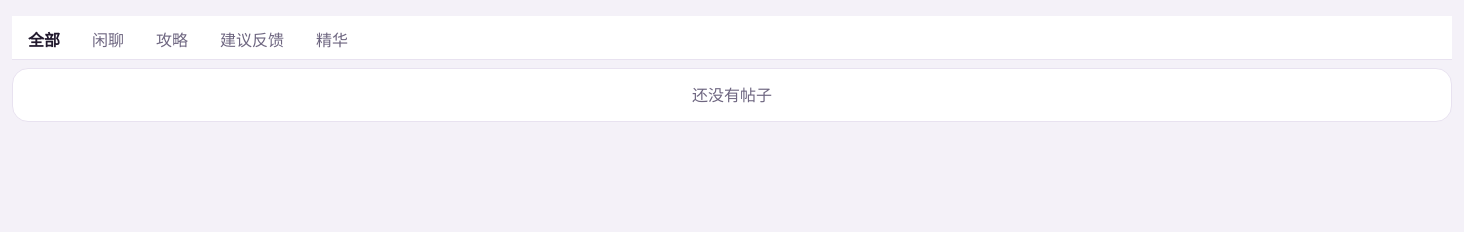
Test: ForumView › 加载中切换标签：以最后一次为准，不会停在旧列表（终审）
Click the tab with test id "forum-tab-guide": (172,40) x1=140 y1=20 x2=204 y2=60
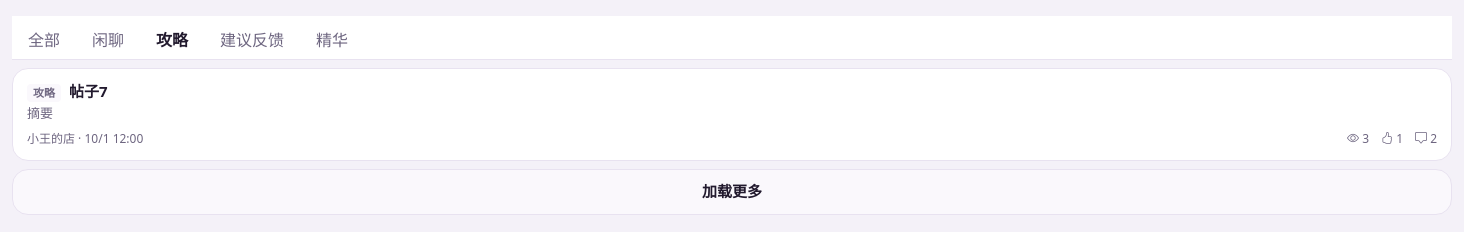
expect the link with test id "forum-item-7" is shown: met, box x1=13 y1=69 x2=1451 y2=160
